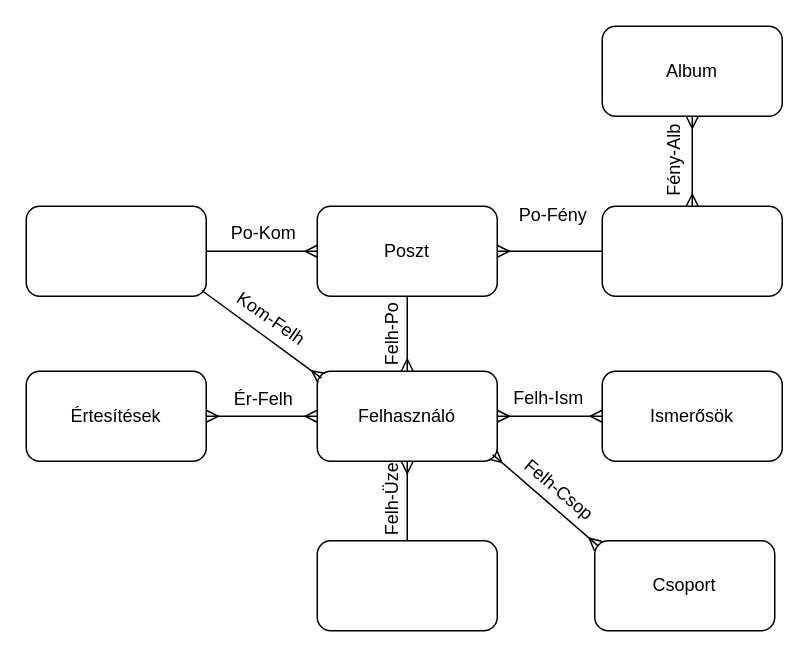
Some shapes in this 809 by 657 pixel diagram are drawn without their labels. Each missing label, with the box of its shape:
Fénykép: (601, 205, 782, 296)
Komment: (25, 205, 206, 296)
Üzenet: (316, 539, 497, 631)
